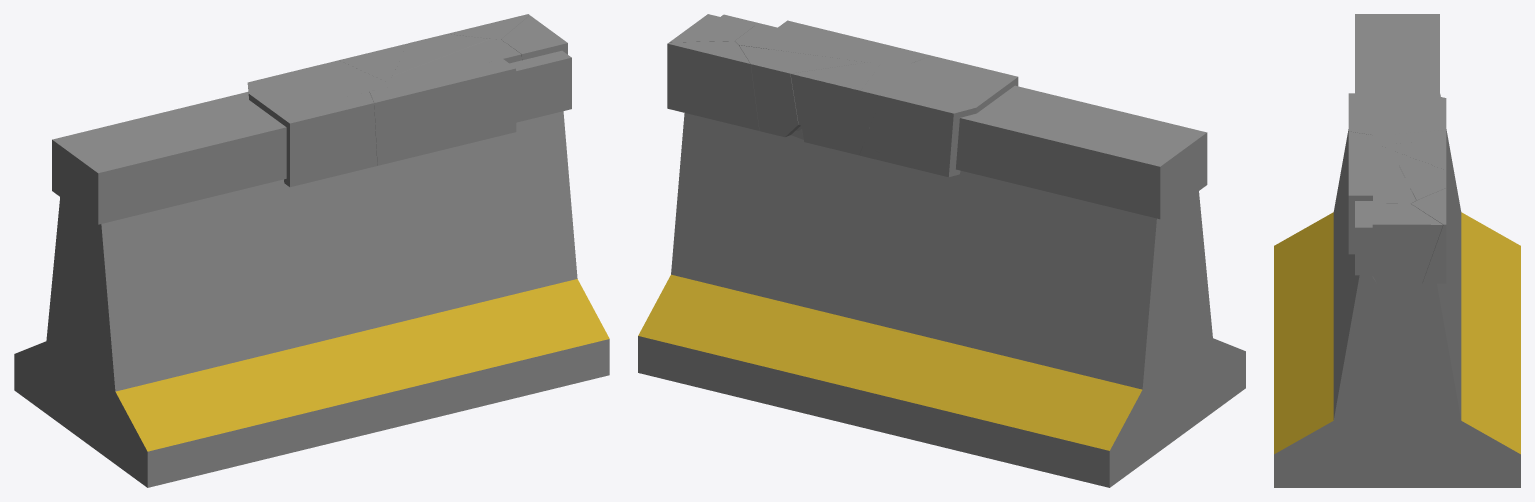
Rendered from concrete_barricade_debris.fbx.
3 views of the same model, side by side, from view 1: azimuth 30°, elevation 25°; view 2: azimuth 150°, elevation 25°; view 3: azimuth 270°, elevation 25° (orthographic). The views are drawn at different scales.
Parts seen in each view (by area): view 1: Barricade.002, Barricade.001_cell.013, Barricade.001_cell.017_cell.002, Barricade.001_cell.017_cell.005, Barricade.001_cell.012, Barricade.001_cell.014_cell.005, Barricade.001_cell.014_cell.006, Barricade.001_cell.014_cell.003, Barricade.001_cell.014_cell.004, Barricade.001_cell.014_cell, Barricade.001_cell.014_cell.007; view 2: Barricade.002, Barricade.001_cell.013, Barricade.001_cell.017_cell.005, Barricade.001_cell.014_cell, Barricade.001_cell.017_cell.006, Barricade.001_cell.014_cell.006, Barricade.001_cell.017_cell.002, Barricade.001_cell.014_cell.005, Barricade.001_cell.014_cell.004, Barricade.001_cell.014_cell.007, Barricade.001_cell.014_cell.003; view 3: Barricade.002, Barricade.001_cell.013, Barricade.001_cell.014_cell.003, Barricade.001_cell.017_cell.005, Barricade.001_cell.017_cell.002, Barricade.001_cell.014_cell, Barricade.001_cell.014_cell.005, Barricade.001_cell.014_cell.006, Barricade.001_cell.012, Barricade.001_cell.014_cell.004, Barricade.001_cell.014_cell.007.
Part boxes in pixels (x1=…): Barricade.002: x1=14, y1=111, x2=609, y2=487; Barricade.001_cell.013: x1=52, y1=92, x2=286, y2=224; Barricade.001_cell.017_cell.002: x1=369, y1=59, x2=516, y2=165; Barricade.001_cell.017_cell.005: x1=247, y1=65, x2=377, y2=187; Barricade.001_cell.012: x1=509, y1=50, x2=571, y2=122; Barricade.001_cell.014_cell.005: x1=391, y1=39, x2=521, y2=78; Barricade.001_cell.014_cell.006: x1=393, y1=34, x2=489, y2=75; Barricade.001_cell.014_cell.003: x1=501, y1=15, x2=567, y2=60; Barricade.001_cell.014_cell.004: x1=339, y1=43, x2=407, y2=82; Barricade.001_cell.014_cell: x1=447, y1=14, x2=529, y2=39; Barricade.001_cell.014_cell.007: x1=326, y1=69, x2=387, y2=99; Barricade.002: x1=638, y1=113, x2=1245, y2=487; Barricade.001_cell.013: x1=956, y1=85, x2=1207, y2=219; Barricade.001_cell.017_cell.005: x1=859, y1=56, x2=1018, y2=177; Barricade.001_cell.014_cell: x1=667, y1=41, x2=759, y2=130; Barricade.001_cell.017_cell.006: x1=794, y1=65, x2=887, y2=155; Barricade.001_cell.014_cell.006: x1=739, y1=45, x2=865, y2=137; Barricade.001_cell.017_cell.002: x1=770, y1=20, x2=931, y2=139; Barricade.001_cell.014_cell.005: x1=735, y1=25, x2=873, y2=62; Barricade.001_cell.014_cell.004: x1=790, y1=61, x2=882, y2=145; Barricade.001_cell.014_cell.007: x1=870, y1=59, x2=945, y2=153; Barricade.001_cell.014_cell.003: x1=669, y1=14, x2=754, y2=42; Barricade.002: x1=1274, y1=94, x2=1520, y2=487; Barricade.001_cell.013: x1=1355, y1=14, x2=1439, y2=96; Barricade.001_cell.014_cell.003: x1=1372, y1=203, x2=1442, y2=283; Barricade.001_cell.017_cell.005: x1=1348, y1=93, x2=1446, y2=135; Barricade.001_cell.017_cell.002: x1=1348, y1=131, x2=1410, y2=254; Barricade.001_cell.014_cell: x1=1411, y1=188, x2=1446, y2=283; Barricade.001_cell.014_cell.005: x1=1373, y1=148, x2=1416, y2=203; Barricade.001_cell.014_cell.006: x1=1391, y1=150, x2=1446, y2=200; Barricade.001_cell.012: x1=1355, y1=201, x2=1372, y2=275; Barricade.001_cell.014_cell.004: x1=1381, y1=139, x2=1446, y2=169; Barricade.001_cell.014_cell.007: x1=1373, y1=119, x2=1443, y2=145.
Bounding box in the file's own units: 374 × 216 × 180.
